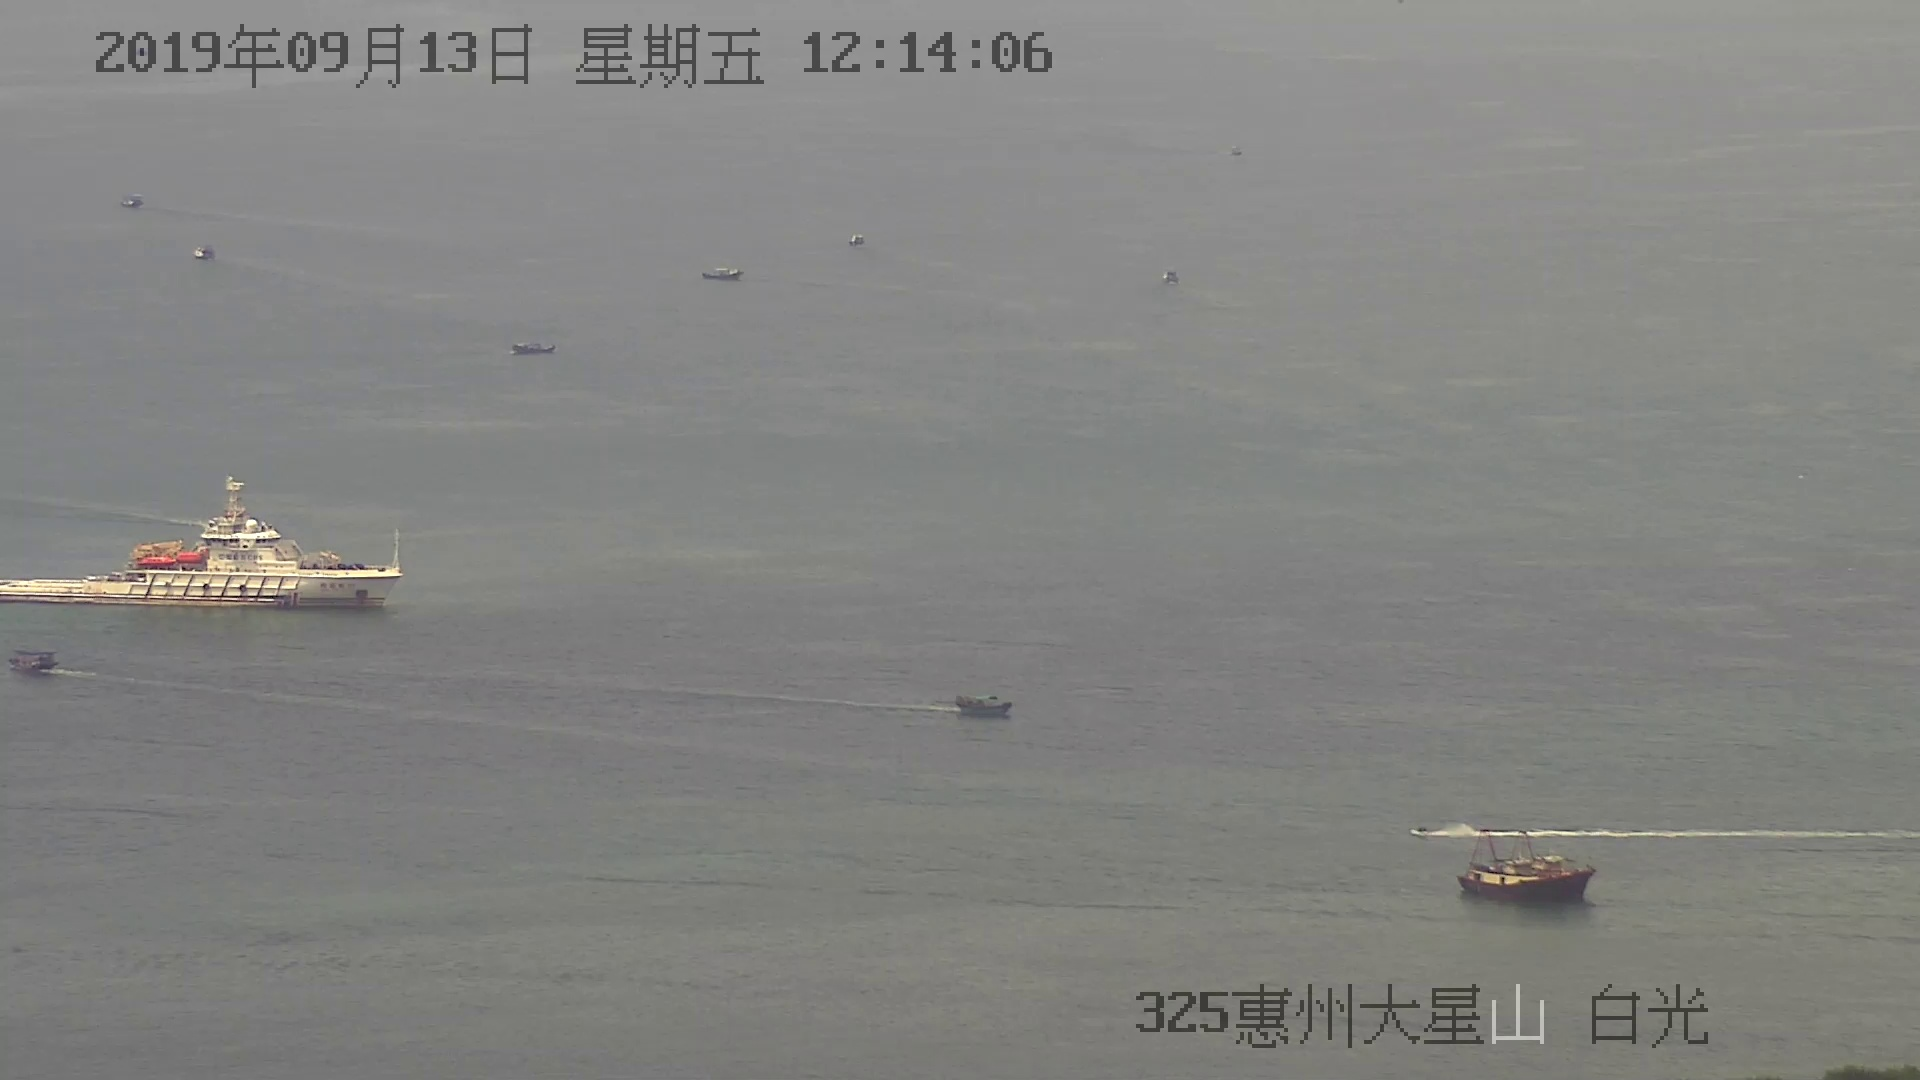ship: (1, 480, 406, 618), (1458, 825, 1600, 899), (8, 644, 61, 682), (955, 695, 1013, 717), (502, 338, 556, 356), (702, 262, 744, 281)
